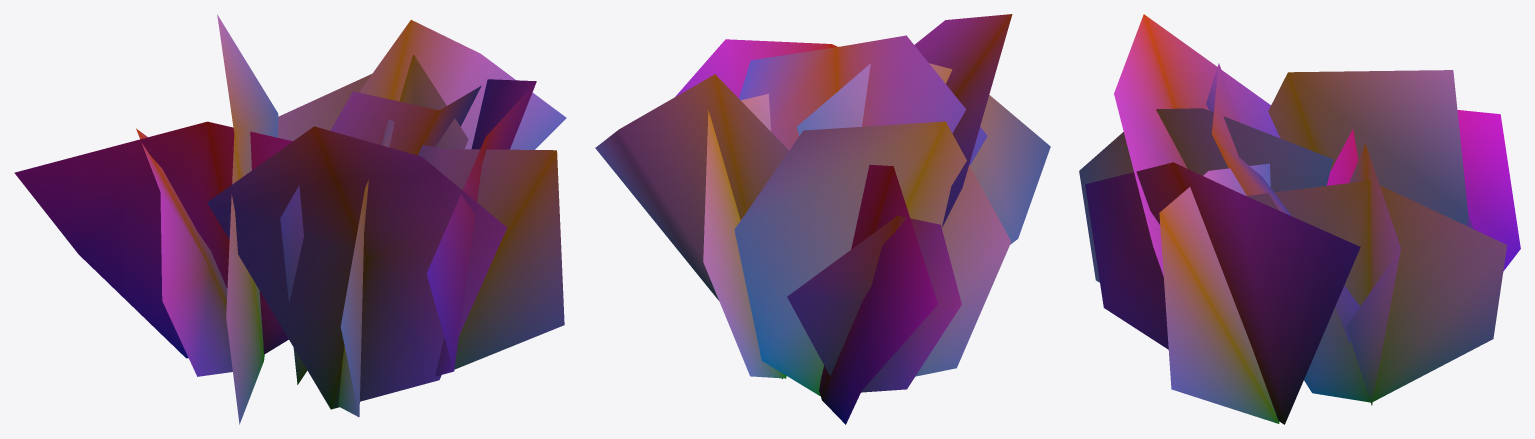
The model's file is misc_groundshrubs_01_c.dae.
3 views of the same model, side by side, from view 1: azimuth 30°, elevation 25°; view 2: azimuth 150°, elevation 25°; view 3: azimuth 270°, elevation 25° (orthographic). The views are drawn at different scales.
Visible parts, largest first — view 1: shrubc; view 2: shrubc; view 3: shrubc.
Boxes of the visible parts, x1,y1,x2,y2 form: shrubc: (14,14,566,424); shrubc: (595,14,1050,424); shrubc: (1079,14,1520,424).
Size of the model in its own units: 1.11 by 0.9767 by 0.806.
